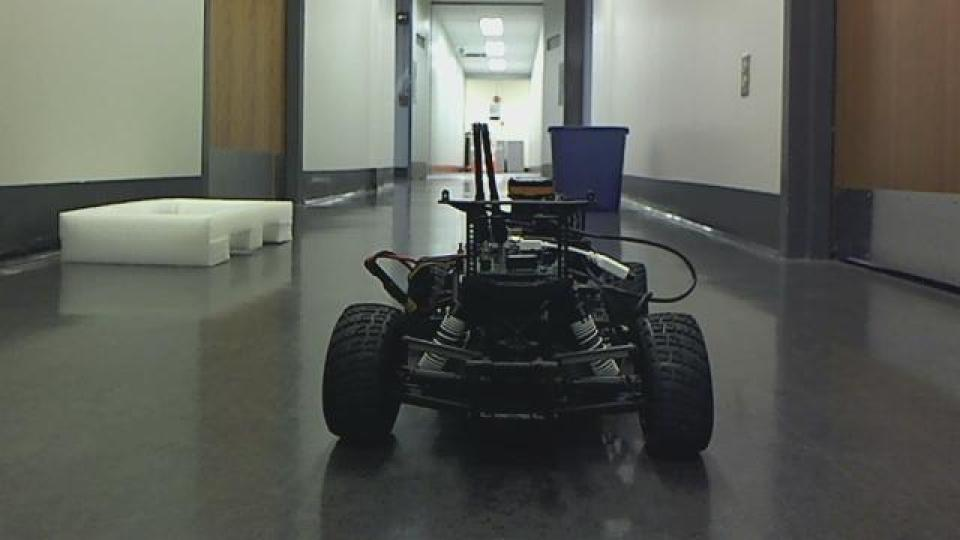car: (318, 186, 717, 464)
